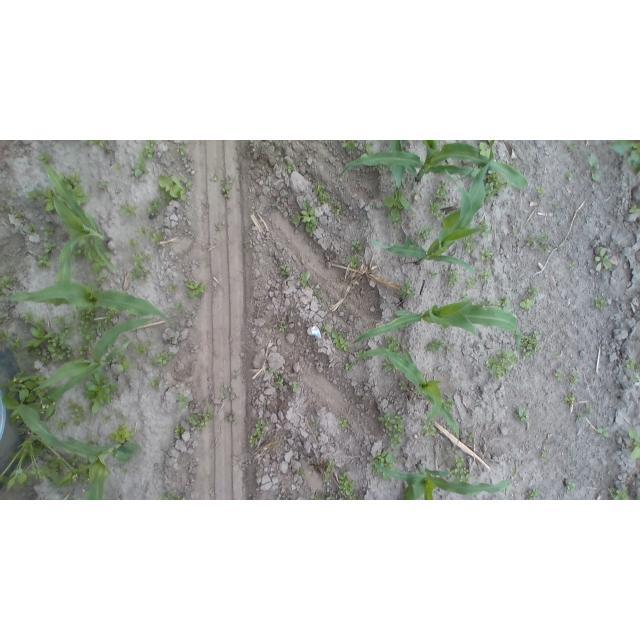Maize: (369, 140, 496, 273), (17, 404, 138, 500), (41, 162, 116, 306), (31, 318, 155, 400), (339, 140, 530, 192), (357, 350, 459, 446), (353, 299, 522, 349), (1, 282, 174, 329), (367, 453, 515, 500), (388, 140, 404, 186), (94, 140, 110, 154), (406, 165, 419, 177)
Weeds: (0, 436, 58, 493), (0, 372, 54, 426), (85, 372, 118, 416), (44, 314, 74, 362), (58, 454, 92, 488), (609, 140, 640, 177), (76, 307, 96, 357), (291, 198, 318, 234), (486, 348, 519, 377), (378, 413, 406, 446), (158, 175, 192, 202), (383, 188, 408, 224), (427, 181, 447, 222), (369, 449, 395, 480), (323, 325, 352, 352), (526, 233, 565, 253), (520, 330, 545, 358), (26, 321, 48, 350), (109, 423, 136, 444), (188, 409, 213, 430), (348, 238, 365, 268), (69, 401, 88, 427), (451, 456, 470, 482), (112, 354, 133, 375), (133, 155, 151, 179), (312, 459, 336, 477), (338, 472, 355, 497), (249, 419, 264, 447), (626, 430, 640, 460), (486, 175, 506, 196), (521, 285, 538, 309), (149, 351, 174, 367), (398, 277, 417, 298), (70, 185, 88, 207), (93, 253, 112, 273), (184, 280, 204, 299), (595, 247, 611, 270), (588, 153, 601, 181), (131, 265, 149, 283), (219, 384, 238, 401), (42, 185, 54, 211), (318, 180, 331, 204), (140, 141, 157, 158), (418, 224, 435, 241), (628, 359, 640, 383), (311, 488, 335, 500), (594, 296, 611, 312), (5, 205, 23, 220), (130, 252, 152, 264), (342, 141, 359, 156), (177, 393, 191, 411), (610, 488, 630, 500), (426, 340, 442, 355), (387, 336, 401, 353), (220, 176, 233, 194), (520, 405, 533, 423), (578, 406, 591, 424), (152, 231, 165, 249), (34, 253, 49, 268), (28, 186, 42, 202), (148, 197, 160, 215), (424, 420, 436, 438), (301, 267, 311, 288), (477, 221, 491, 236), (330, 198, 341, 217), (120, 203, 136, 216), (446, 270, 458, 287), (495, 297, 509, 311), (525, 487, 541, 499), (479, 141, 492, 155), (67, 172, 82, 184), (161, 490, 180, 499), (463, 239, 475, 253), (40, 222, 52, 236), (55, 418, 69, 430), (104, 310, 115, 325), (461, 433, 476, 444), (1, 279, 12, 294), (598, 427, 610, 440), (38, 150, 51, 162), (562, 391, 574, 404), (475, 297, 489, 308), (481, 268, 492, 282), (174, 424, 186, 436), (338, 419, 350, 431), (134, 345, 147, 356), (279, 264, 290, 277), (444, 398, 455, 411), (569, 370, 579, 384), (21, 314, 35, 324), (553, 199, 564, 211), (45, 240, 56, 252), (536, 185, 546, 198), (150, 378, 160, 390), (556, 367, 564, 382), (480, 249, 492, 259), (566, 142, 579, 151), (80, 141, 96, 148), (129, 237, 140, 247), (98, 180, 109, 190), (466, 277, 476, 287), (114, 162, 124, 172), (96, 274, 106, 284), (629, 205, 640, 214), (265, 366, 276, 375), (566, 481, 575, 492), (1, 330, 9, 342), (213, 169, 220, 182), (226, 411, 235, 421), (101, 416, 111, 425), (276, 378, 285, 388), (399, 380, 407, 391), (291, 380, 298, 392), (286, 163, 293, 174), (294, 468, 305, 475), (542, 451, 549, 462), (345, 362, 353, 371), (279, 324, 288, 332), (140, 226, 148, 235), (230, 369, 238, 377), (13, 339, 20, 348), (564, 171, 572, 178), (429, 271, 437, 278), (570, 261, 575, 272), (311, 421, 320, 427), (169, 284, 176, 291), (178, 148, 185, 155), (460, 293, 468, 299), (176, 303, 182, 310), (556, 352, 561, 357)
